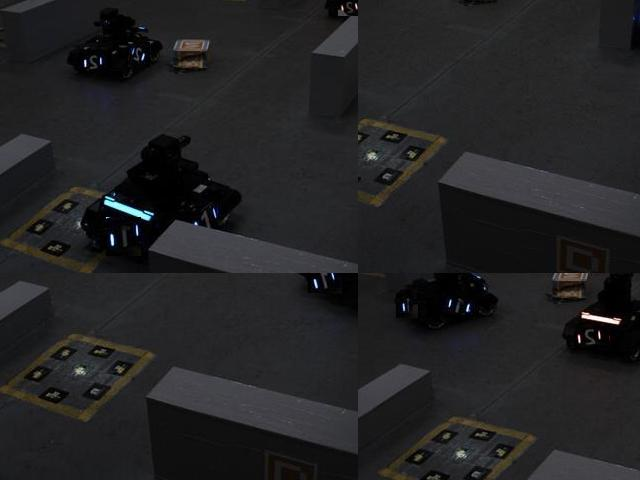armor: (106, 217, 142, 257), (189, 204, 221, 236), (443, 291, 477, 321), (577, 325, 610, 352), (308, 273, 344, 295), (79, 50, 108, 73), (129, 42, 152, 68), (397, 294, 420, 320), (338, 0, 357, 17)
